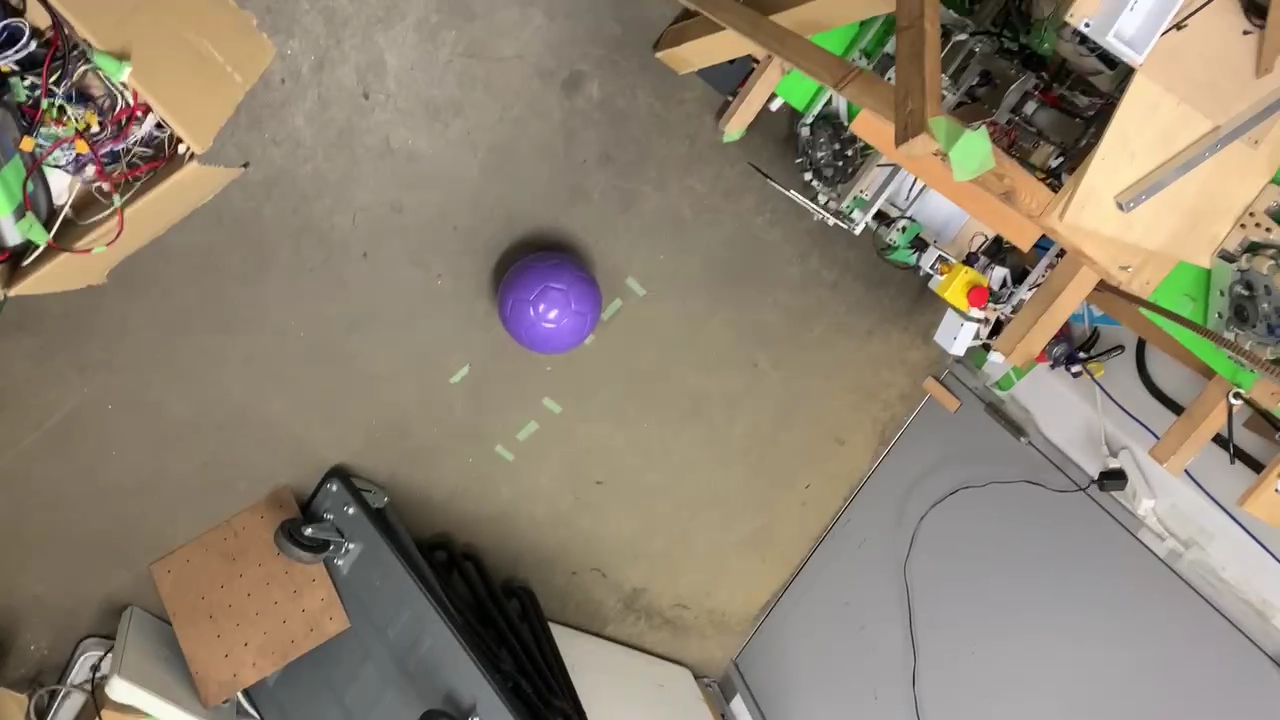purple: (499, 251, 602, 355)
